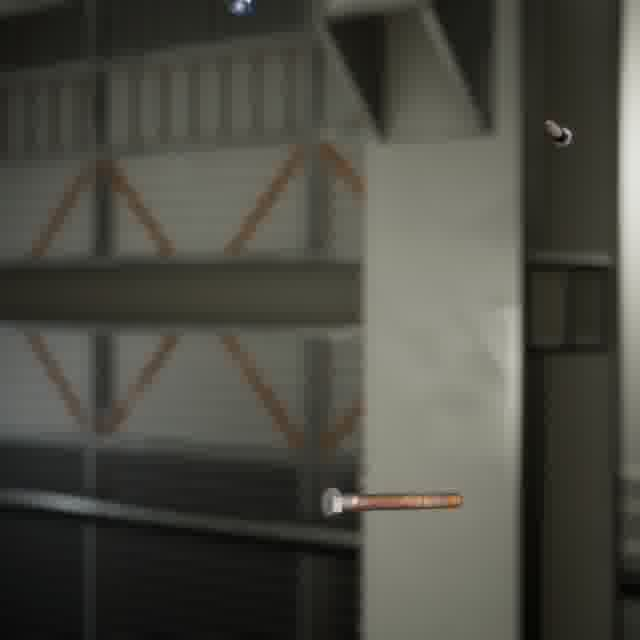bolt: (316, 483, 467, 521), (540, 115, 578, 152)
nut: (222, 0, 262, 22)
